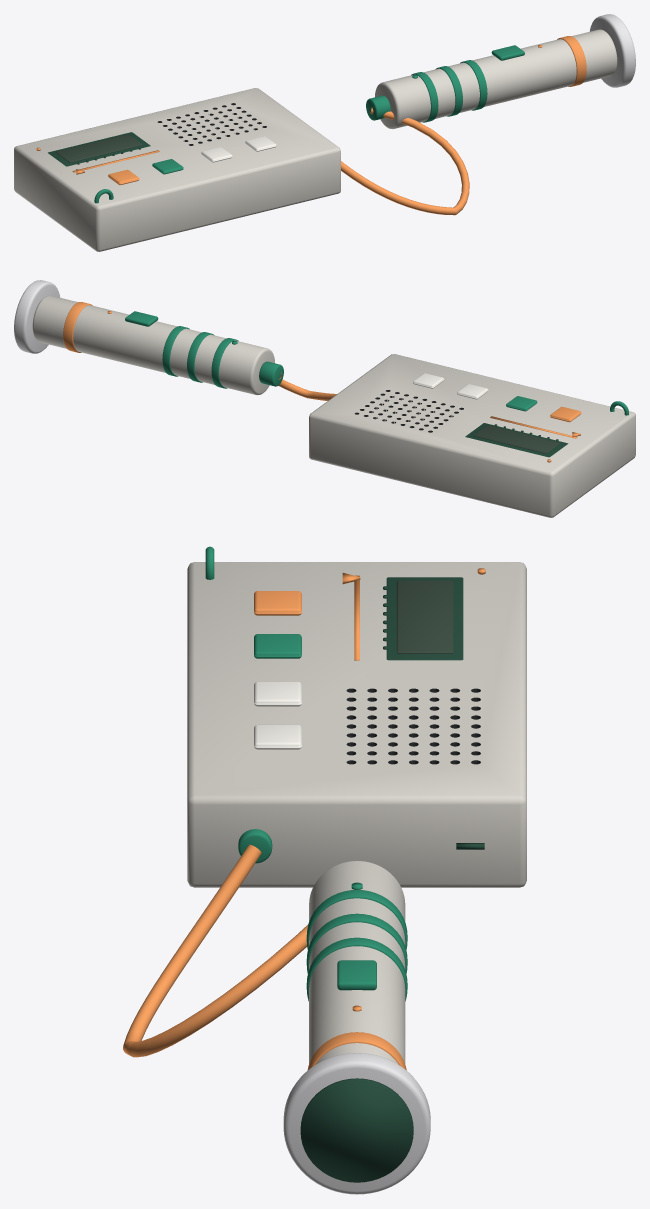
The model's file is geiger.glb.
3 views of the same model, one above another, from view 1: azimuth 30°, elevation 25°; view 2: azimuth 150°, elevation 25°; view 3: azimuth 270°, elevation 25° (orthographic). The views are drawn at different scales.
Parts seen in each view (by area): view 1: GeigerBody, GeigerProbe, GeigerCable, GeigerProbeHead, GeigerScreen, GeigerDisplayRecess, GeigerProbeColorBand, GeigerProbeBack, GeigerProbeGrip2, GeigerProbeGrip3, GeigerProbeGrip1, GeigerProbeTrigger; view 2: GeigerBody, GeigerProbe, GeigerProbeHead, GeigerScreen, GeigerDisplayRecess, GeigerProbeColorBand, GeigerProbeBack, GeigerCable, GeigerProbeGrip2, GeigerProbeGrip3, GeigerProbeGrip1, GeigerProbeTrigger; view 3: GeigerBody, GeigerProbe, GeigerProbeFace, GeigerProbeHead, GeigerCable, GeigerScreen, GeigerDisplayRecess, GeigerButtonVolUp, GeigerButtonVolDn, GeigerProbeTrigger, GeigerButtonMode, GeigerButtonPower (+4 smaller).
Boxes of the visible parts, x1,y1,x2,y2 form: GeigerBody: (14, 88, 340, 251); GeigerProbe: (375, 29, 617, 129); GeigerCable: (341, 107, 469, 215); GeigerProbeHead: (589, 14, 635, 87); GeigerScreen: (56, 134, 142, 162); GeigerDisplayRecess: (48, 132, 150, 166); GeigerProbeColorBand: (557, 36, 586, 86); GeigerProbeBack: (366, 95, 390, 120); GeigerProbeGrip2: (435, 66, 462, 116); GeigerProbeGrip3: (460, 60, 487, 110); GeigerProbeGrip1: (411, 72, 438, 122); GeigerProbeTrigger: (491, 45, 524, 60); GeigerBody: (309, 354, 635, 517); GeigerProbe: (32, 295, 274, 395); GeigerProbeHead: (14, 280, 60, 353); GeigerScreen: (473, 425, 560, 453); GeigerDisplayRecess: (465, 423, 568, 457); GeigerProbeColorBand: (63, 302, 92, 352); GeigerProbeBack: (259, 361, 283, 386); GeigerCable: (278, 373, 336, 400); GeigerProbeGrip2: (187, 332, 214, 382); GeigerProbeGrip3: (162, 326, 189, 376); GeigerProbeGrip1: (211, 338, 238, 388); GeigerProbeTrigger: (125, 311, 158, 326); GeigerBody: (187, 562, 526, 887); GeigerProbe: (309, 860, 405, 1064); GeigerProbeFace: (300, 1078, 413, 1182); GeigerProbeHead: (283, 1053, 430, 1194); GeigerCable: (123, 844, 308, 1057); GeigerScreen: (396, 580, 453, 653); GeigerDisplayRecess: (386, 577, 463, 660); GeigerButtonVolUp: (254, 681, 301, 706); GeigerButtonVolDn: (254, 724, 301, 749); GeigerProbeTrigger: (337, 960, 376, 990); GeigerButtonMode: (254, 634, 301, 658); GeigerButtonPower: (254, 591, 301, 615).
Bounding box in the file's own units: 0.2307 × 0.0404 × 0.0714.
